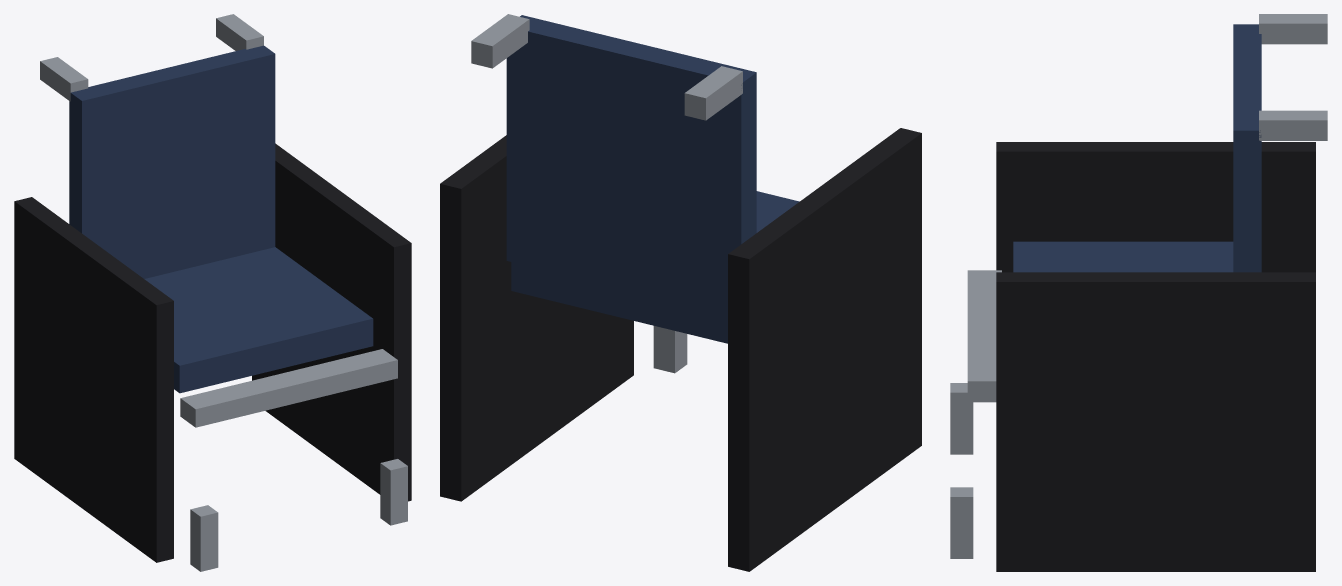
The model's file is hos-cadeira-rodas.gltf.
3 views of the same model, side by side, from view 1: azimuth 30°, elevation 25°; view 2: azimuth 150°, elevation 25°; view 3: azimuth 270°, elevation 25° (orthographic). The views are drawn at different scales.
Parts seen in each view (by area): view 1: hos-cadeira-rodas; view 2: hos-cadeira-rodas; view 3: hos-cadeira-rodas.
Part boxes in pixels (left/top/right/bottom): hos-cadeira-rodas: left=14, top=14, right=411, bottom=571; hos-cadeira-rodas: left=440, top=14, right=921, bottom=571; hos-cadeira-rodas: left=950, top=14, right=1327, bottom=571.
Bounding box in the file's own units: 0.58 × 0.84 × 0.66.
